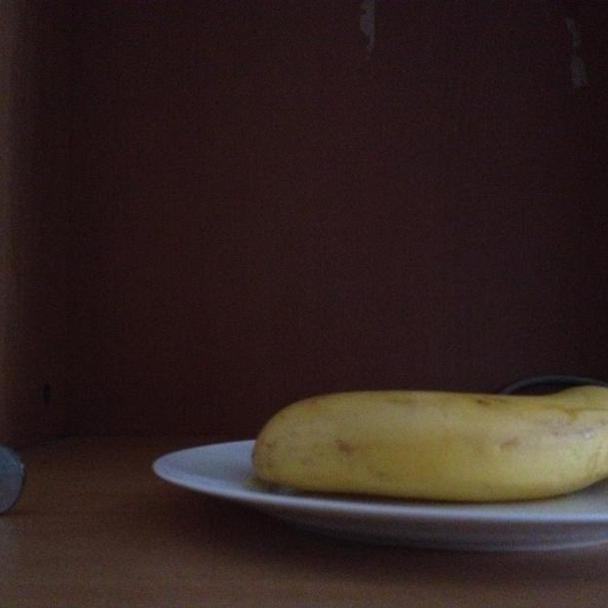banana: (251, 385, 608, 501)
